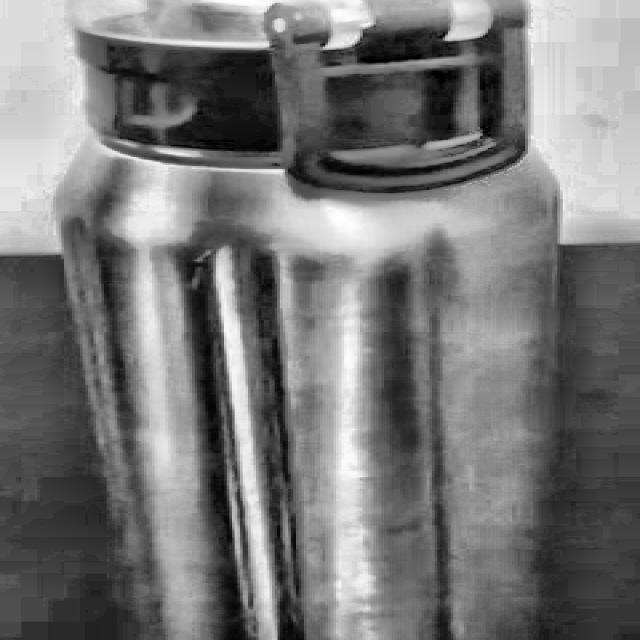bottle: (56, 0, 563, 640)
